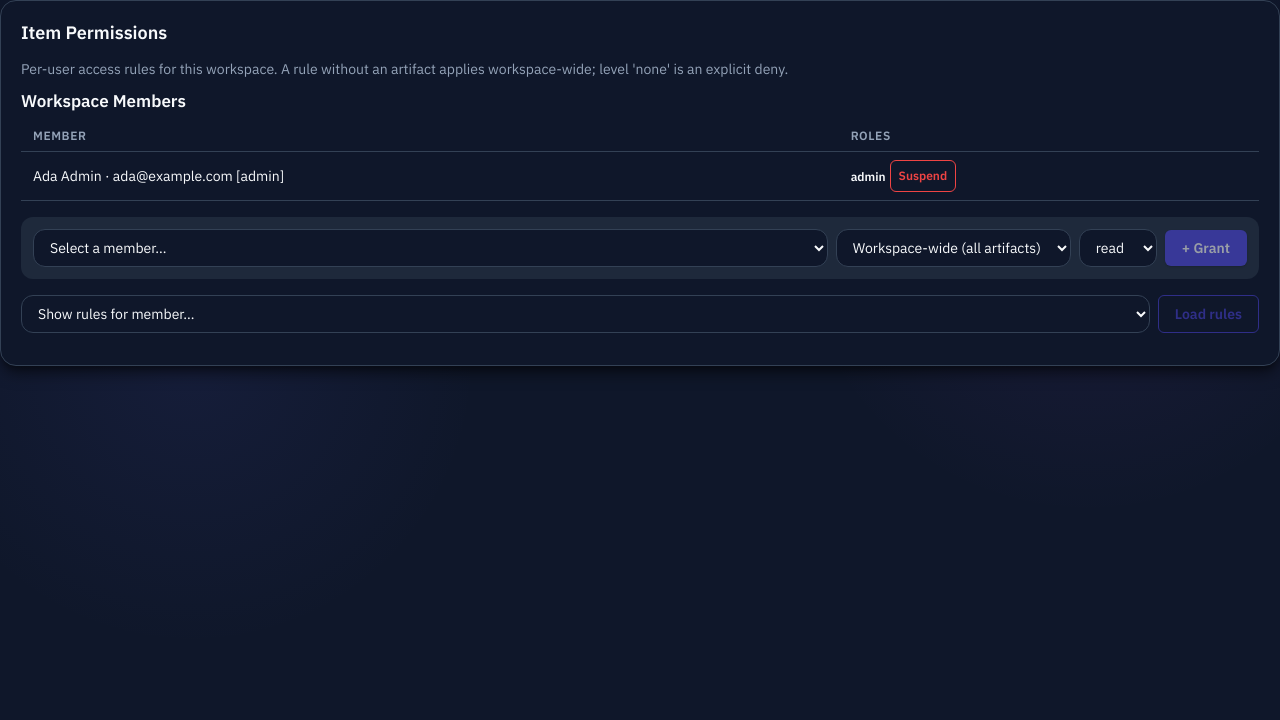
Test: PermissionsSection — LAST_ADMIN handling › does not treat an unrelated nested error as LAST_ADMIN
What coordinates should you click on to do the following:
click the button "Suspend"
I would click on:
 (923, 176)
Its box is [890, 160, 956, 192].
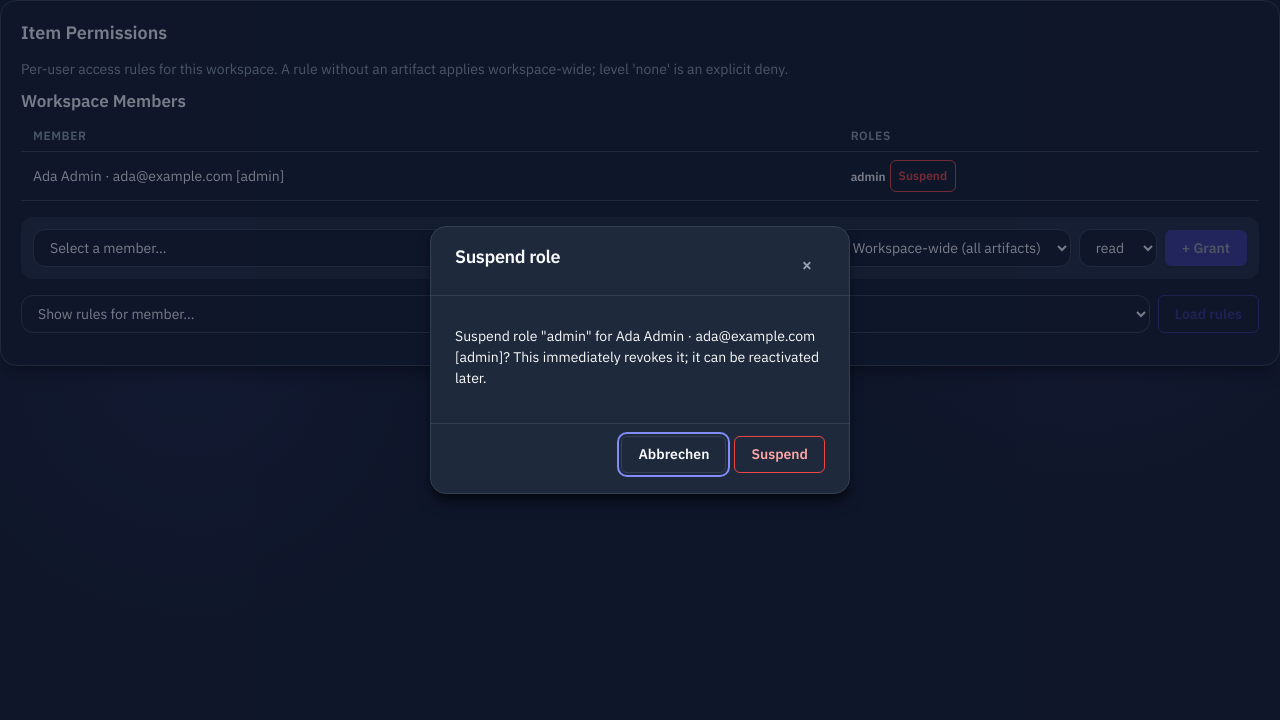
What coordinates should you click on to do the following:
click the button with test id "workspace-member-suspend-confirm-confirm"
I would click on:
 (780, 454)
Its box is [734, 436, 825, 473].
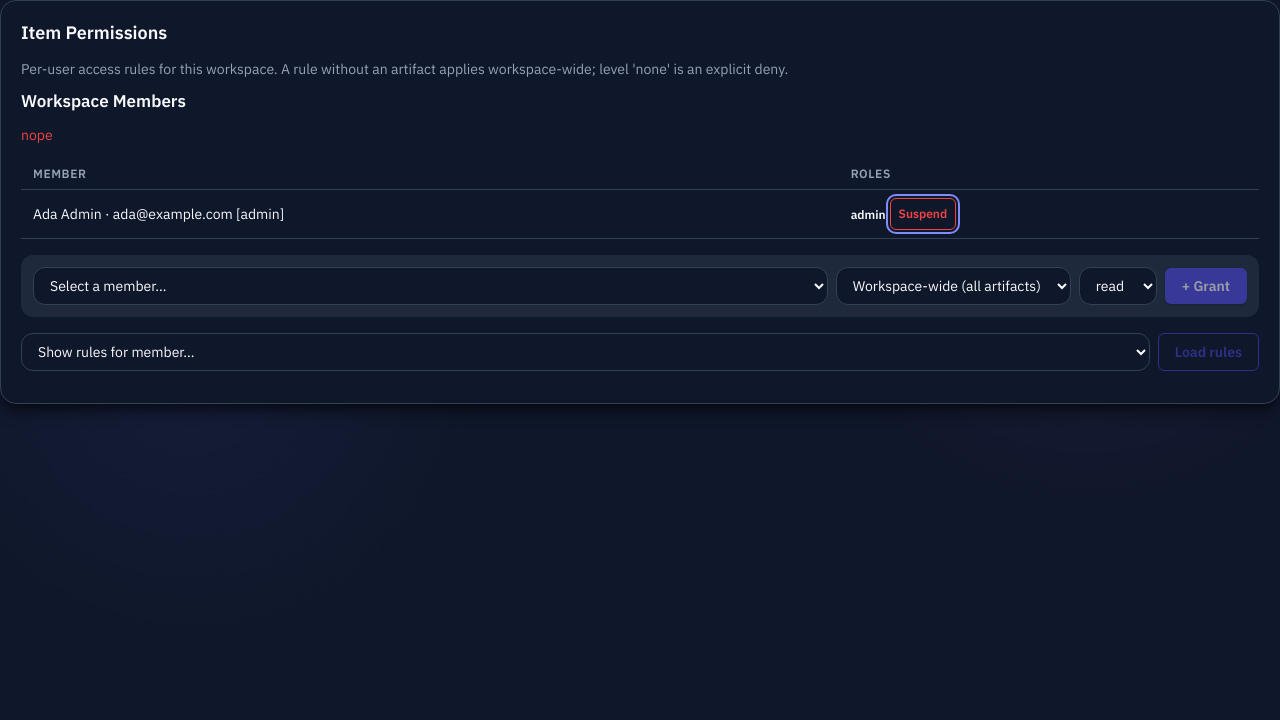
Now the message "nope" is not empty, box [21, 126, 53, 144]
Now the message with test id "workspace-members-error" reads "nope", box [21, 126, 53, 144]
